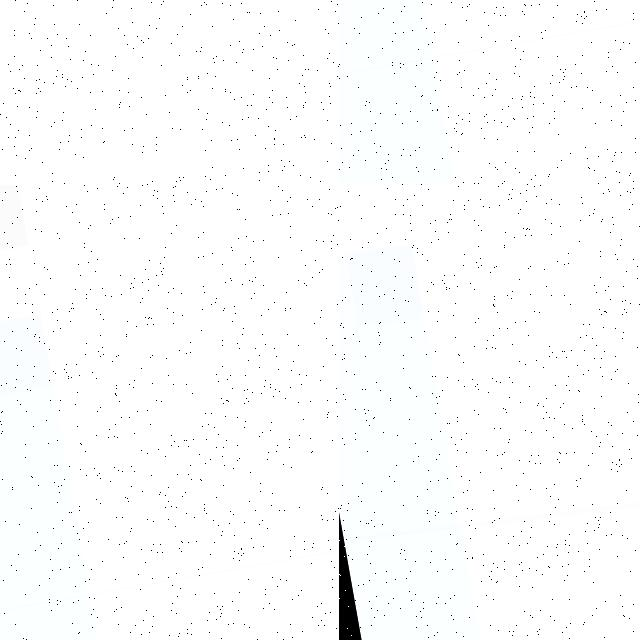drone: (339, 185, 640, 640)
